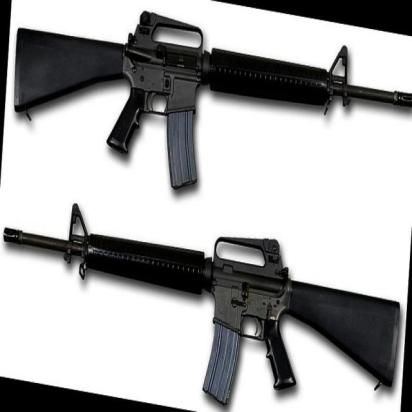Gun: (5, 0, 412, 228), (0, 191, 403, 412)
